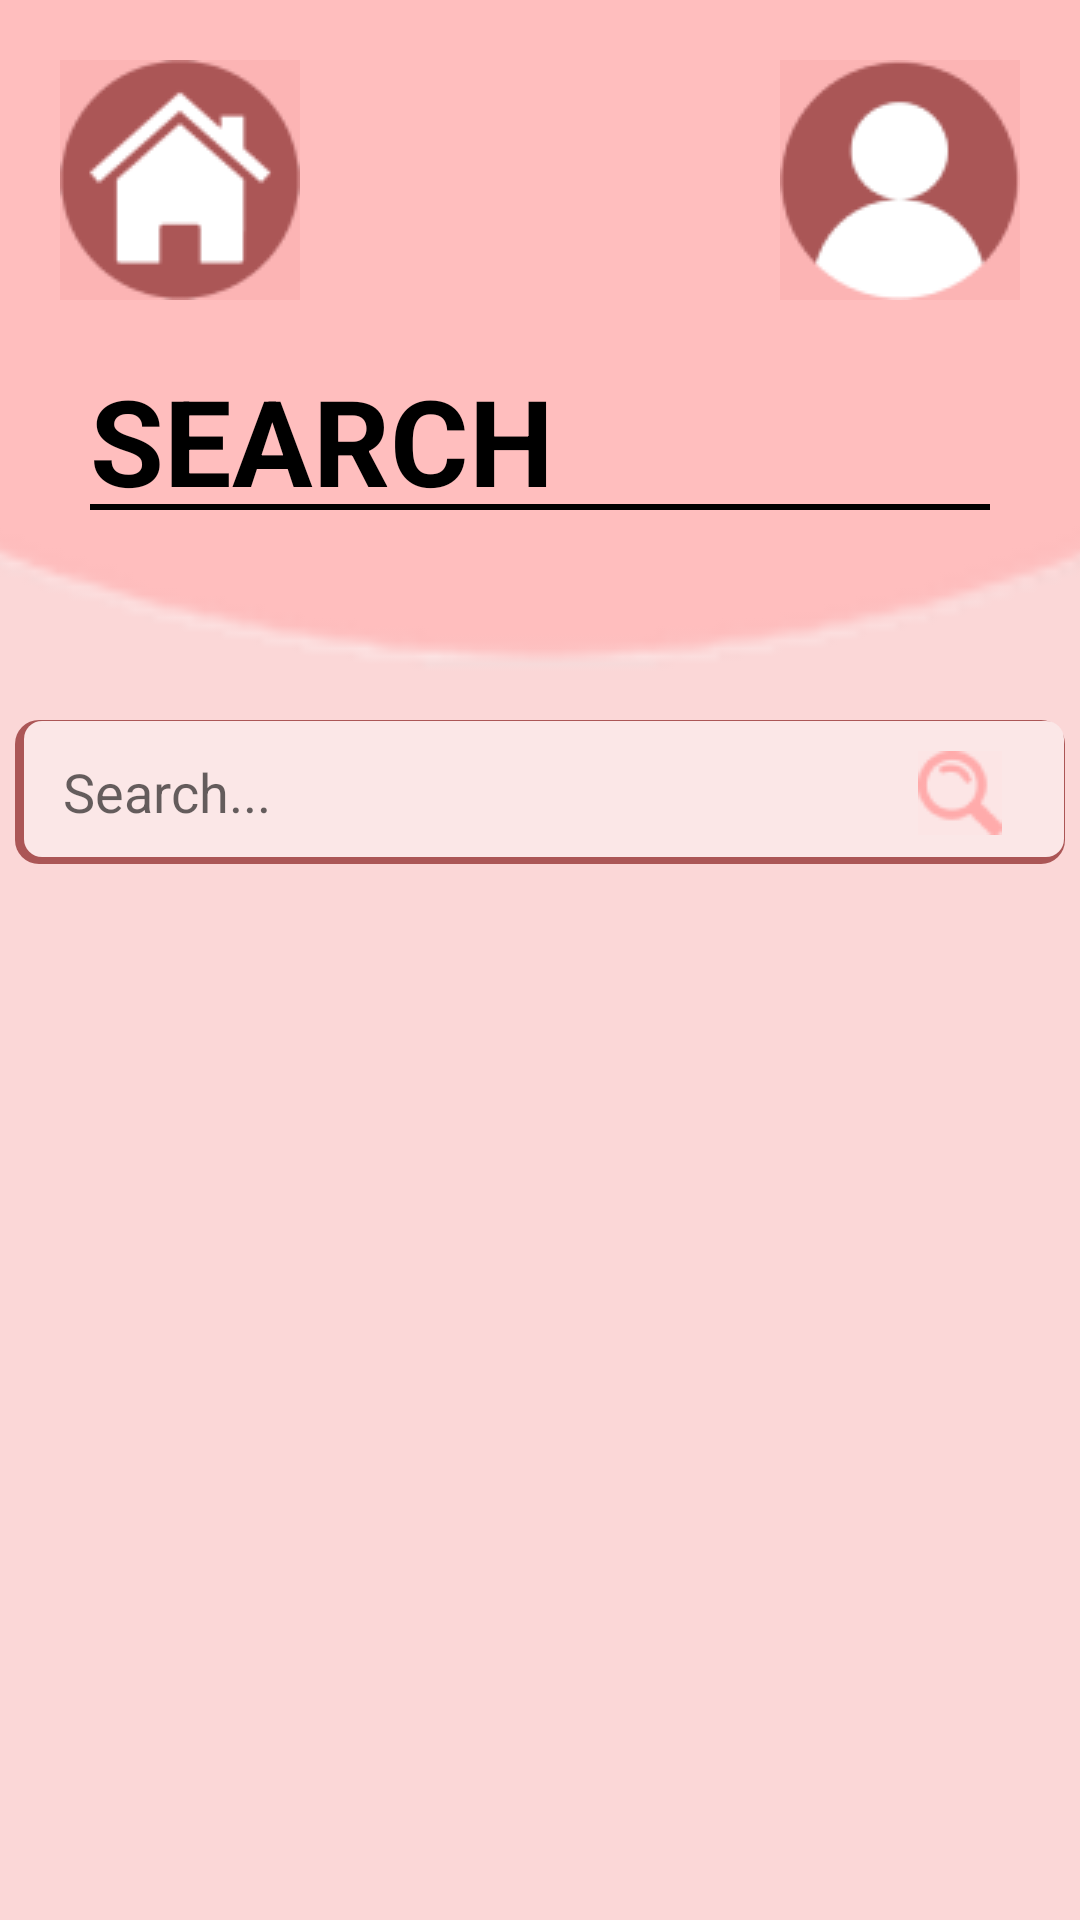

Named icons in this screenshot (1080w x 1920h) and their bounding boxes, (x1, y1, x2, y2):
home: (60, 60, 300, 300)
usuario: (780, 60, 1019, 298)
